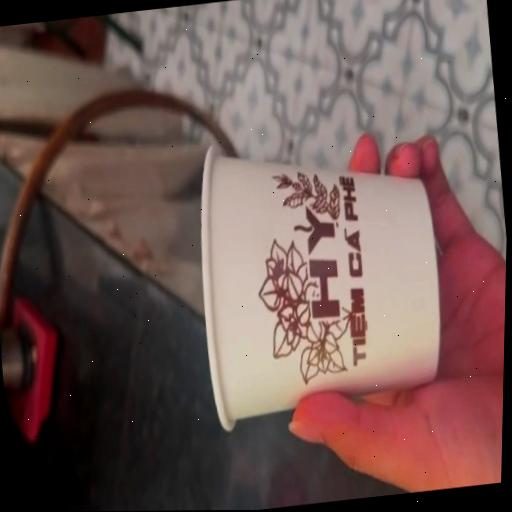Ly_giay: (201, 148, 439, 429)
